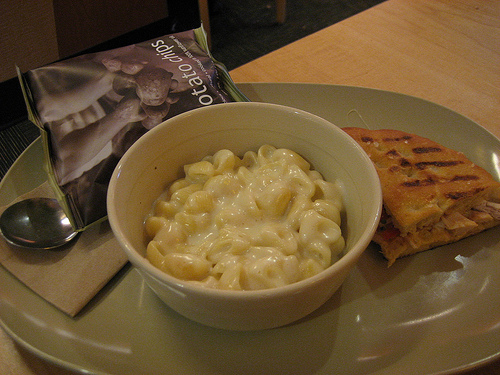macncheese: (136, 140, 343, 293)
